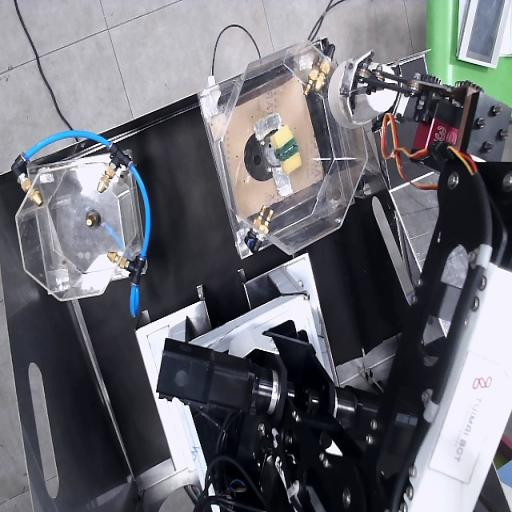cup in wash station: (328, 51, 398, 128)
